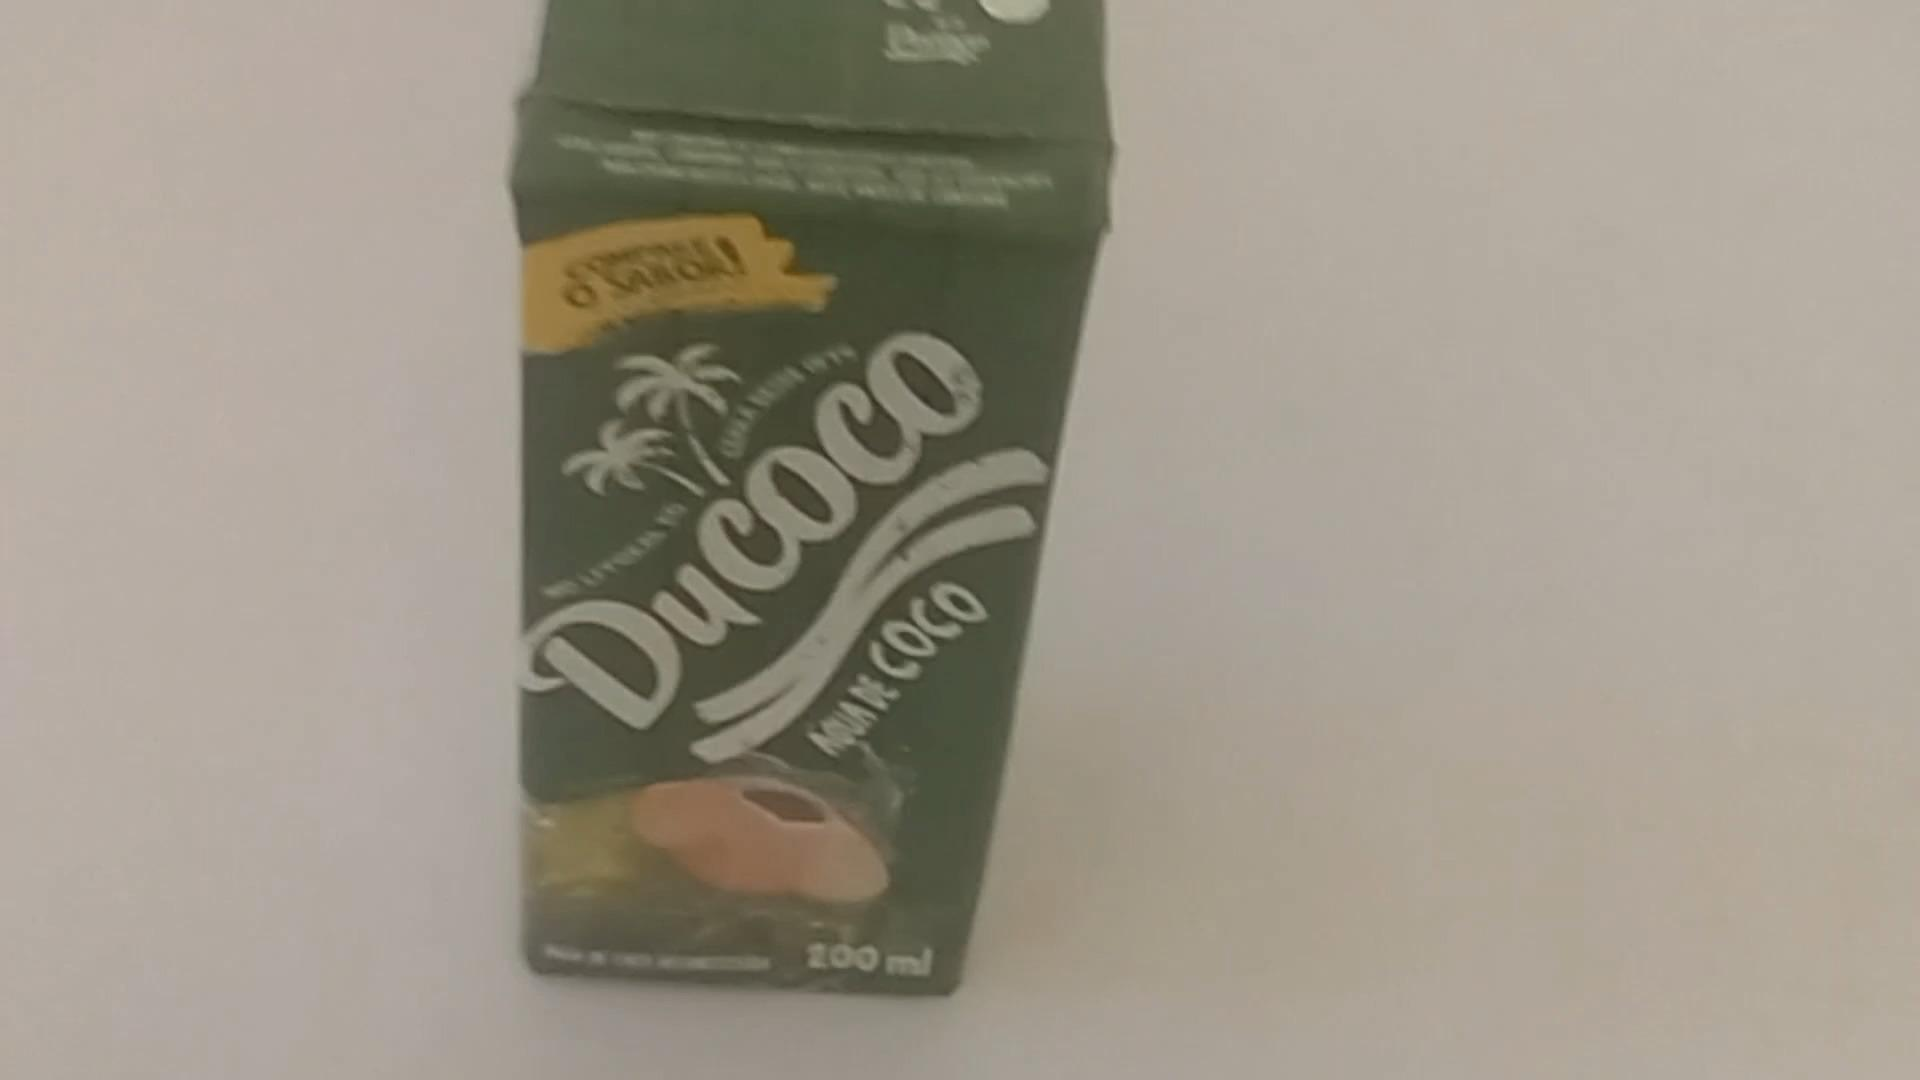coco: (509, 0, 1116, 1005)
